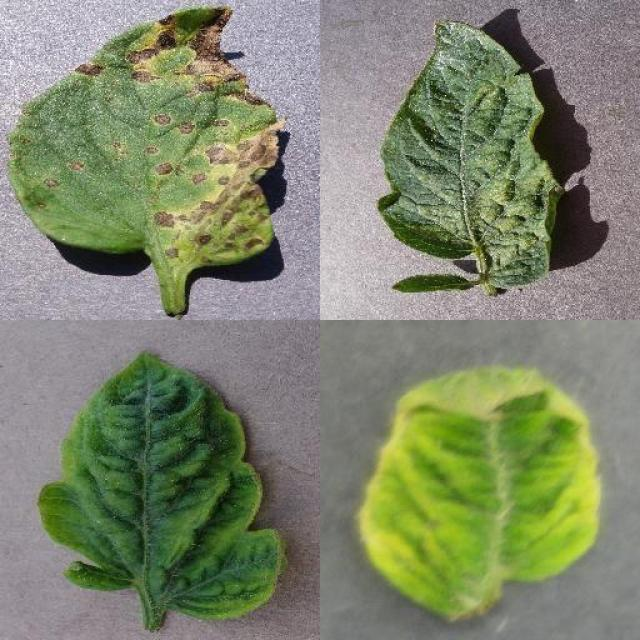Septoria: (10, 6, 280, 270)
